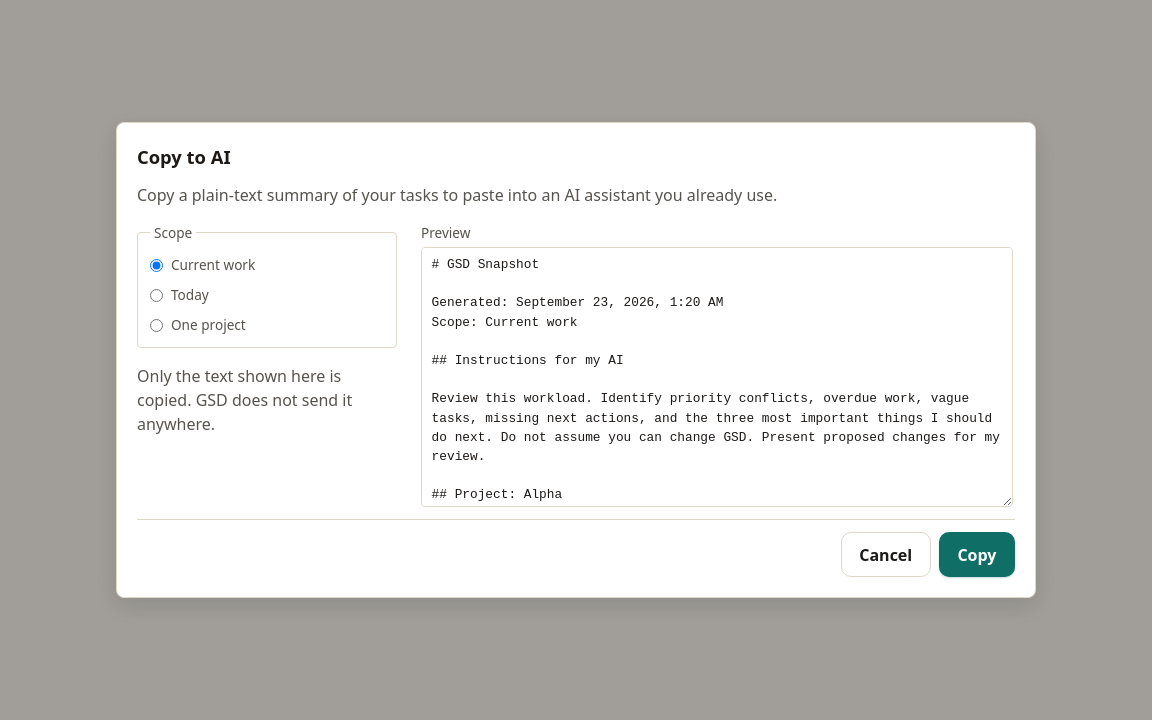
Test: CopyToAIDialog › copies exactly the previewed text and shows a success message
Click the button "Copy".
click(977, 554)  # box [939, 532, 1015, 577]
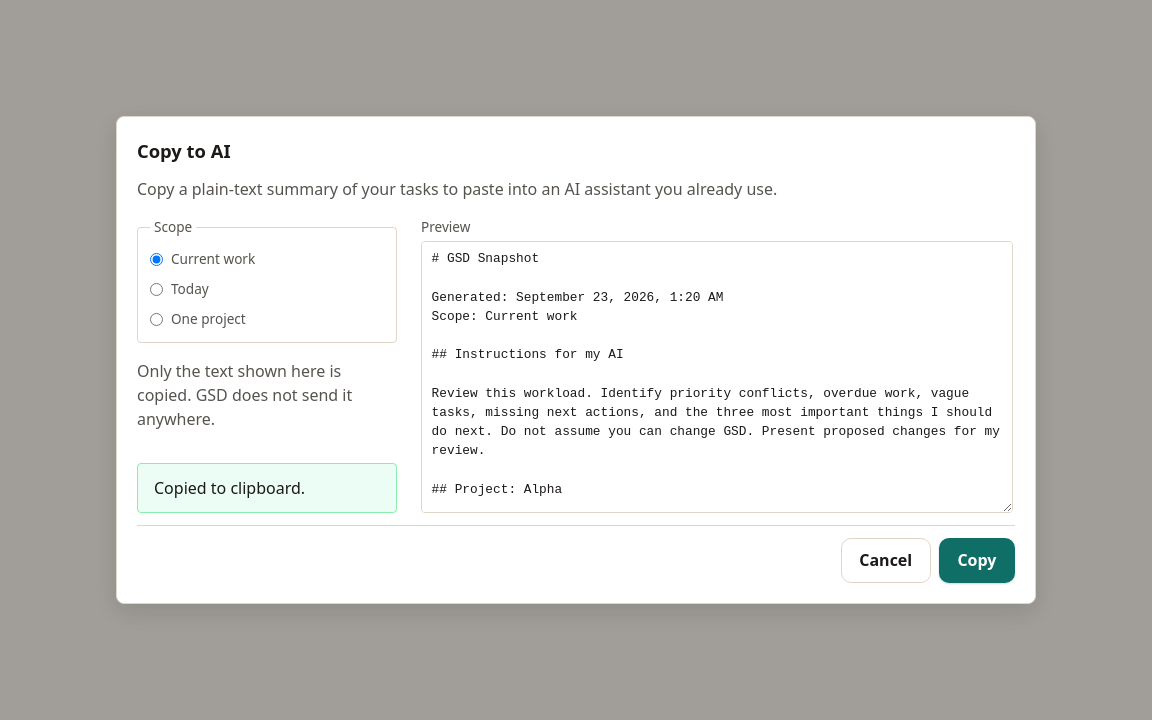
Now the text "Copied to clipboard." is shown, box [137, 463, 397, 513]
